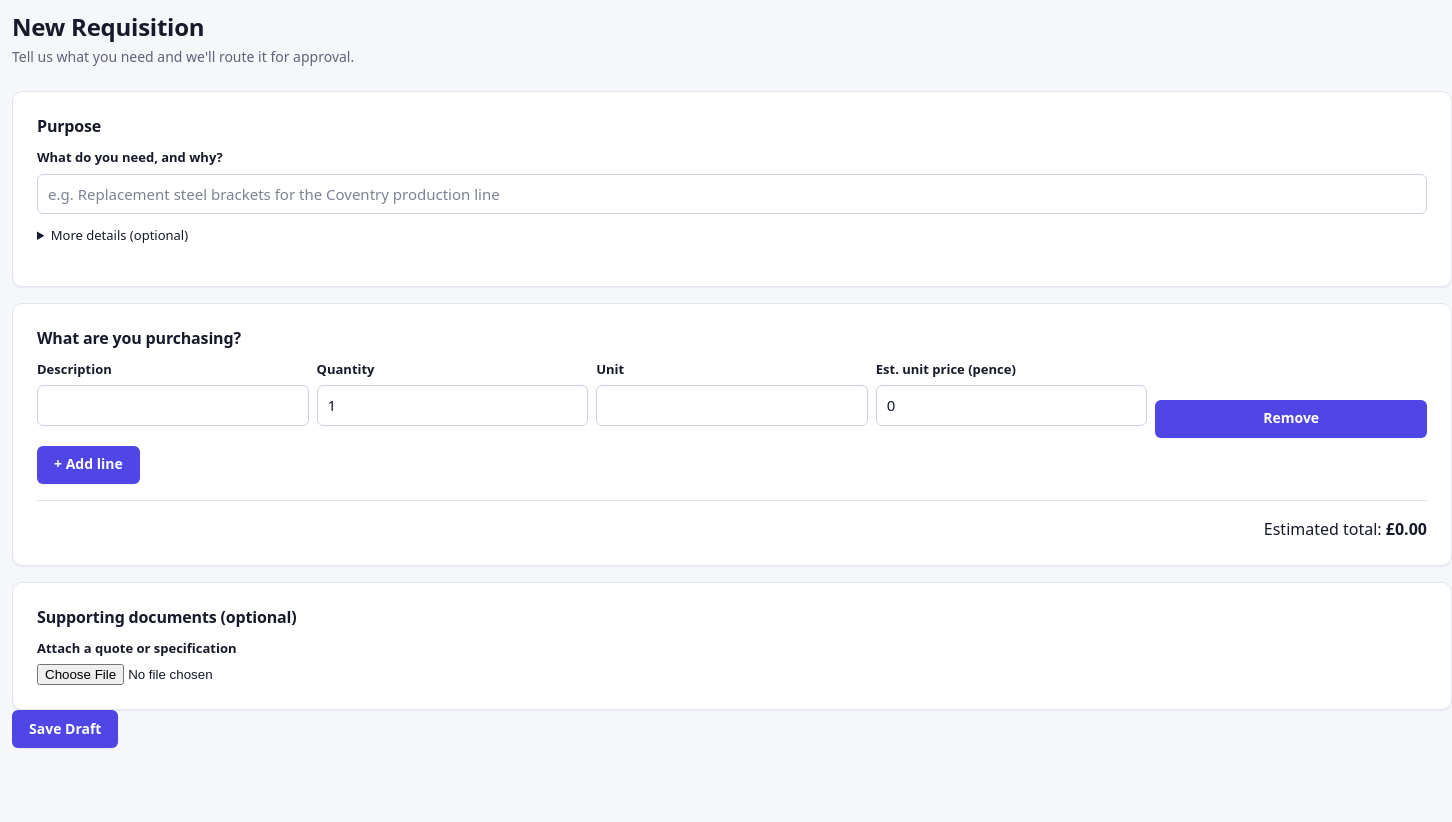
NewRequisitionPage (item 6 - the most important screen) › VALIDATION: rejects a line with no description
Step 1. Replace the text in the field labelled "What do you need, and why?" with "Replacement parts" → {"x": 732, "y": 194}, box x1=37 y1=174 x2=1427 y2=214
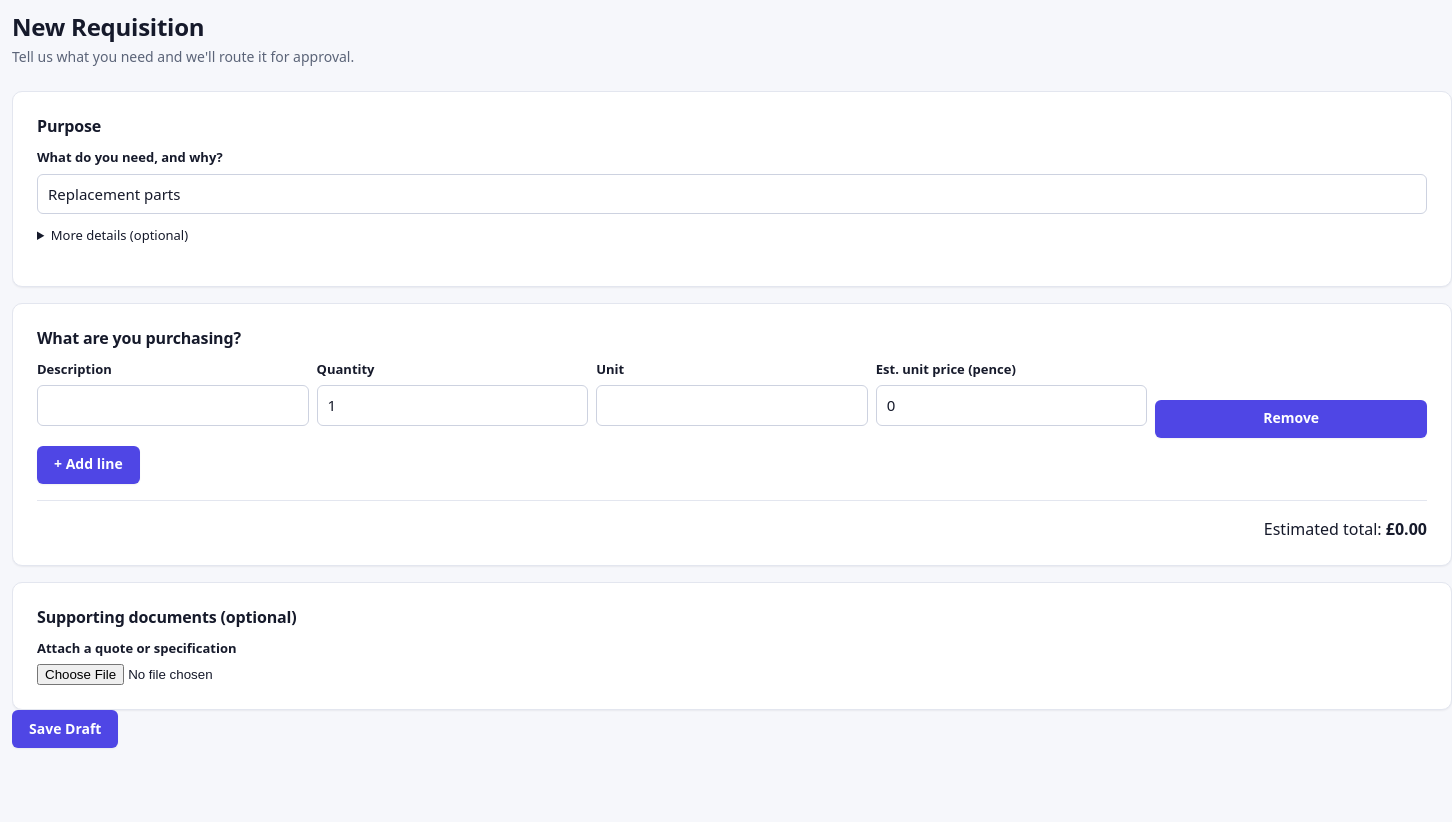
Step 2. Click the button "Save Draft" → {"x": 65, "y": 729}, box x1=12 y1=710 x2=118 y2=748
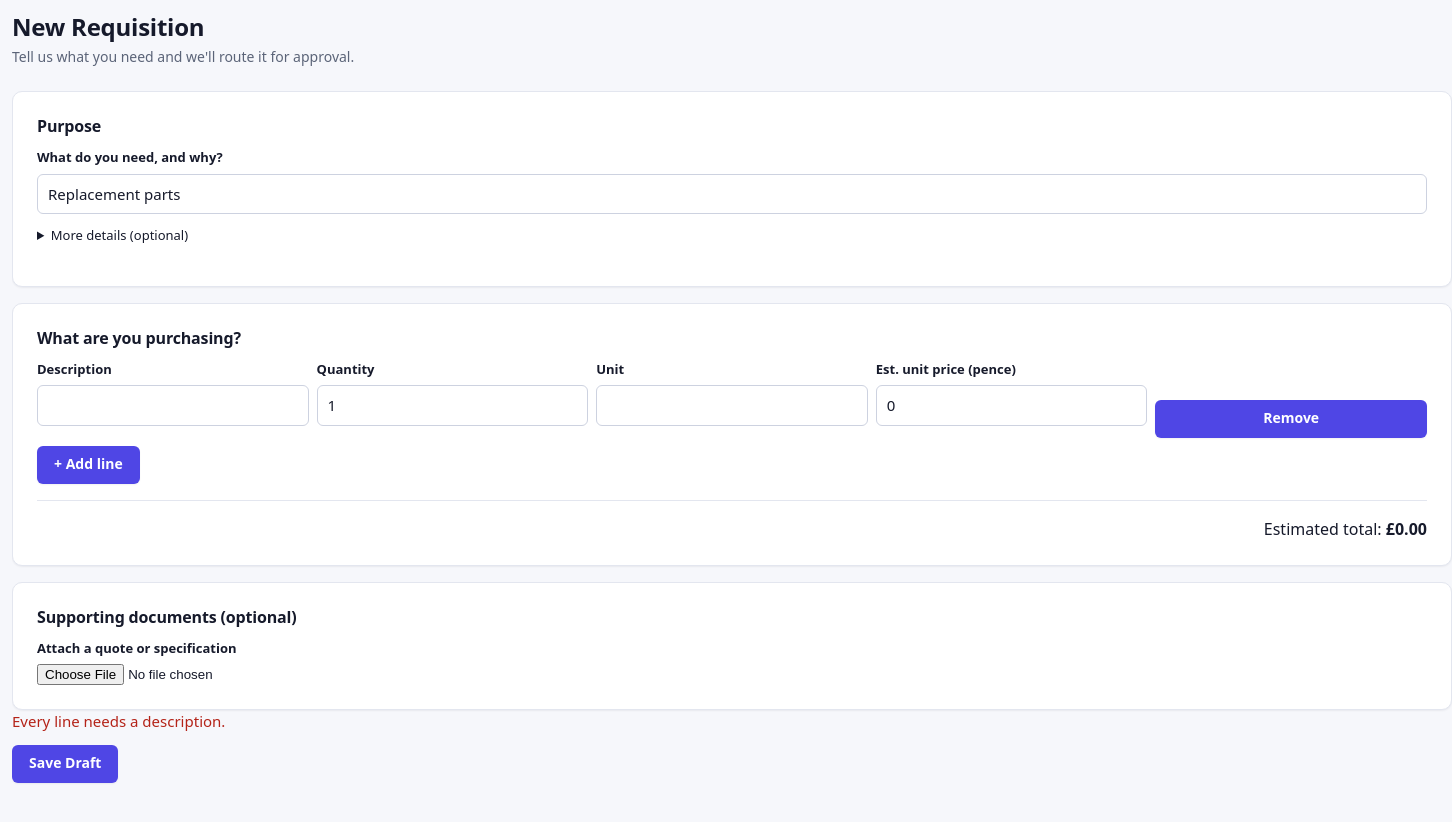
expect the message shows "Every line needs a description": met, box x1=12 y1=711 x2=225 y2=731
